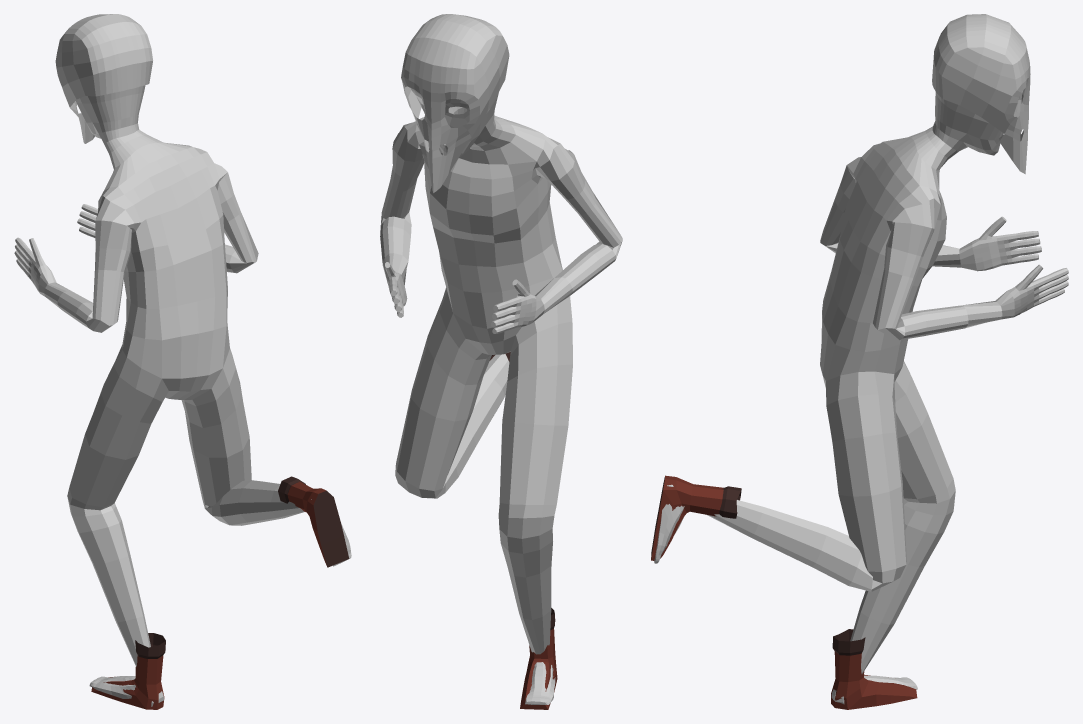
Rendered from correr_000154.obj.
3 views of the same model, side by side, from view 1: azimuth 30°, elevation 25°; view 2: azimuth 150°, elevation 25°; view 3: azimuth 270°, elevation 25° (orthographic). The views are drawn at different scales.
Parts seen in each view (by area): view 1: Plane.002_Plane.001, Plane.003, Plane.004; view 2: Plane.002_Plane.001, Plane.004; view 3: Plane.002_Plane.001, Plane.004, Plane.003.
Part boxes in pixels (bbox=[...]): Plane.002_Plane.001: bbox=[14, 14, 351, 706]; Plane.003: bbox=[278, 476, 349, 567]; Plane.004: bbox=[91, 633, 165, 709]; Plane.002_Plane.001: bbox=[380, 14, 622, 704]; Plane.004: bbox=[520, 608, 557, 709]; Plane.002_Plane.001: bbox=[654, 14, 1068, 704]; Plane.004: bbox=[831, 629, 917, 709]; Plane.003: bbox=[651, 475, 741, 560].
Size of the model in its own units: 2.03 by 6.49 by 3.55.
